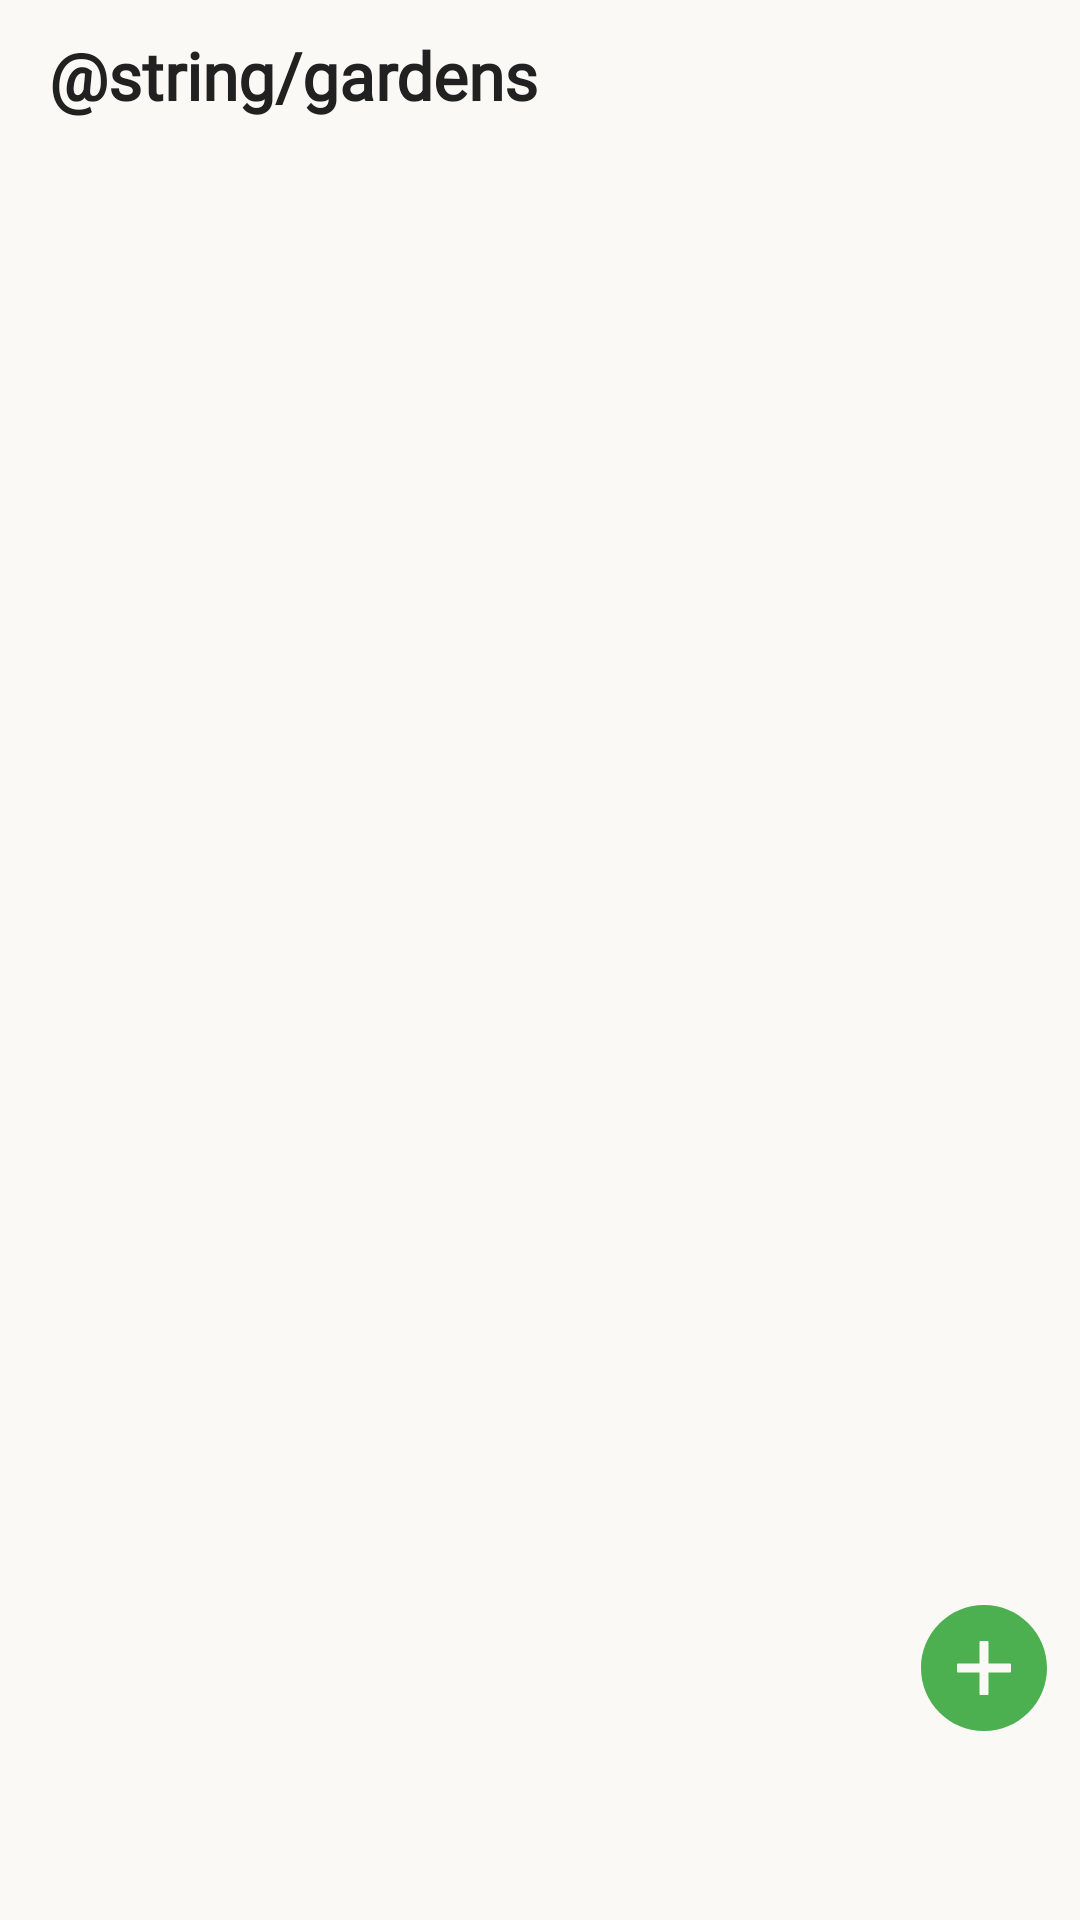

Named icons in this screenshot (1080w x 1920h) and their bounding boxes, (x1, y1, x2, y2):
plus: (921, 1605, 1047, 1731)
